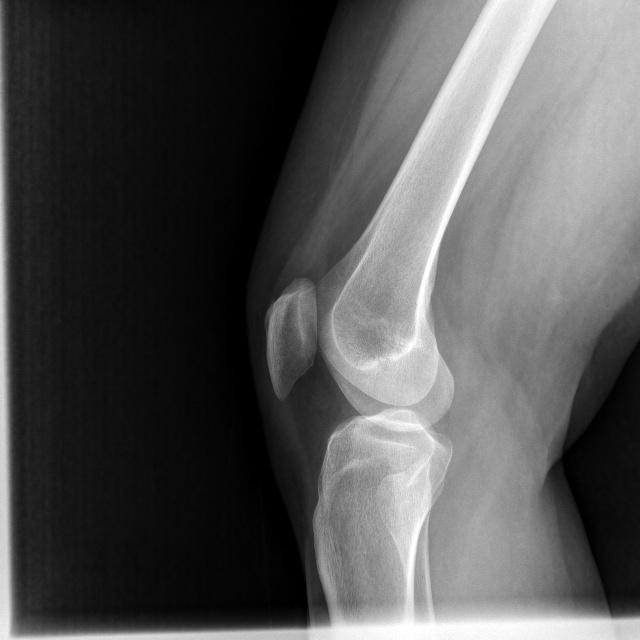Knee: (261, 276, 457, 492)
